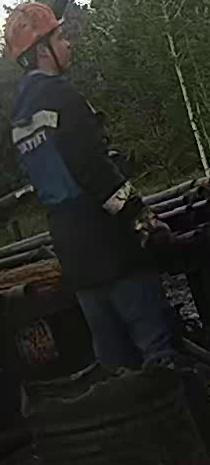gloves: (122, 197, 172, 263)
helmet: (3, 2, 64, 62)
vest: (8, 69, 133, 241)
